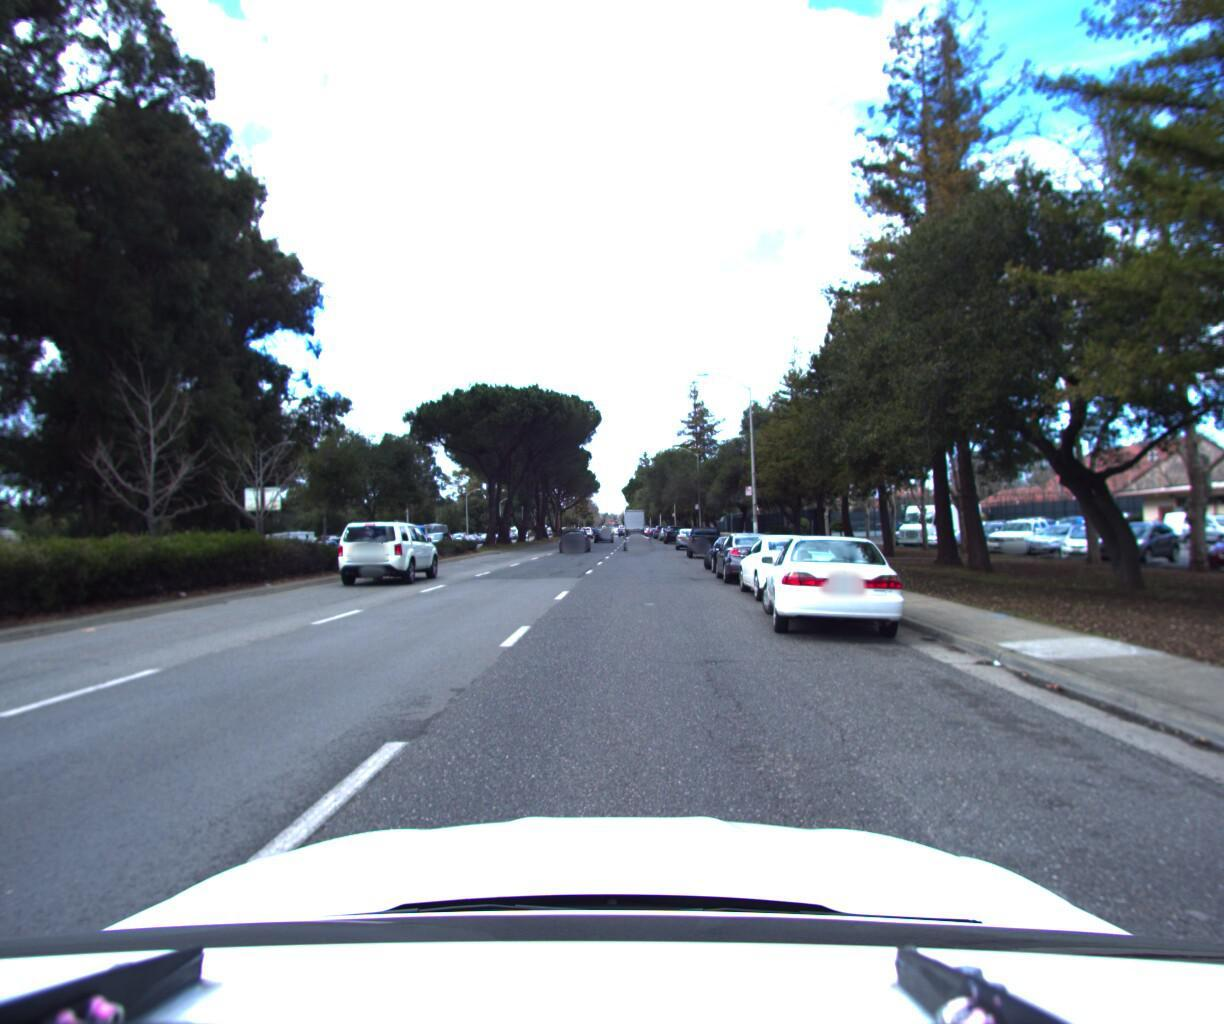car: (756, 527, 921, 648), (732, 530, 851, 604), (330, 519, 451, 591), (713, 529, 792, 585), (702, 533, 767, 574), (686, 524, 727, 559), (620, 525, 654, 553), (559, 529, 594, 555), (675, 527, 707, 551), (663, 524, 688, 544), (594, 527, 616, 542)
other_vehicle: (0, 525, 43, 626), (246, 530, 326, 571)
